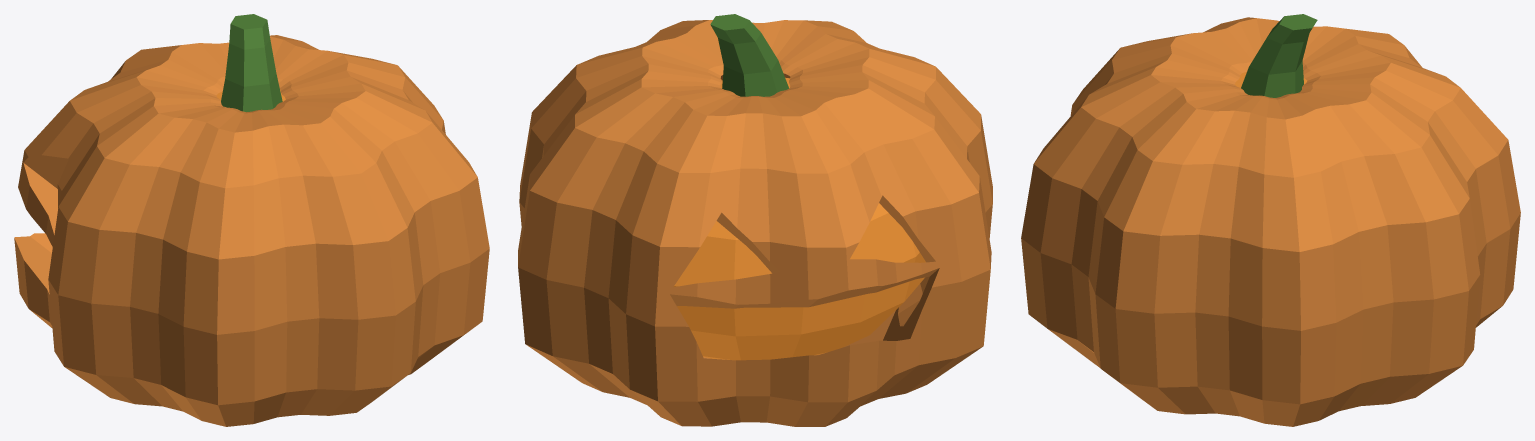
File: PumpkinLanternSmile.glb
3 views of the same model, side by side, from view 1: azimuth 30°, elevation 25°; view 2: azimuth 150°, elevation 25°; view 3: azimuth 270°, elevation 25° (orthographic). The views are drawn at different scales.
Parts seen in each view (by area): view 1: PumpkinLanternSmile_Body, PumpkinLanternSmile_Stem; view 2: PumpkinLanternSmile_Body, PumpkinLanternSmile_Glow, PumpkinLanternSmile_Stem; view 3: PumpkinLanternSmile_Body, PumpkinLanternSmile_Stem.
Boxes of the visible parts, box(x1,y1,x2,y2) form: PumpkinLanternSmile_Body: box(14, 35, 489, 426); PumpkinLanternSmile_Stem: box(221, 14, 282, 111); PumpkinLanternSmile_Body: box(518, 20, 992, 426); PumpkinLanternSmile_Glow: box(673, 77, 925, 360); PumpkinLanternSmile_Stem: box(710, 14, 789, 96); PumpkinLanternSmile_Body: box(1021, 17, 1520, 426); PumpkinLanternSmile_Stem: box(1241, 14, 1317, 97).
Bounding box in the file's own units: 0.695 × 0.5457 × 0.695.
